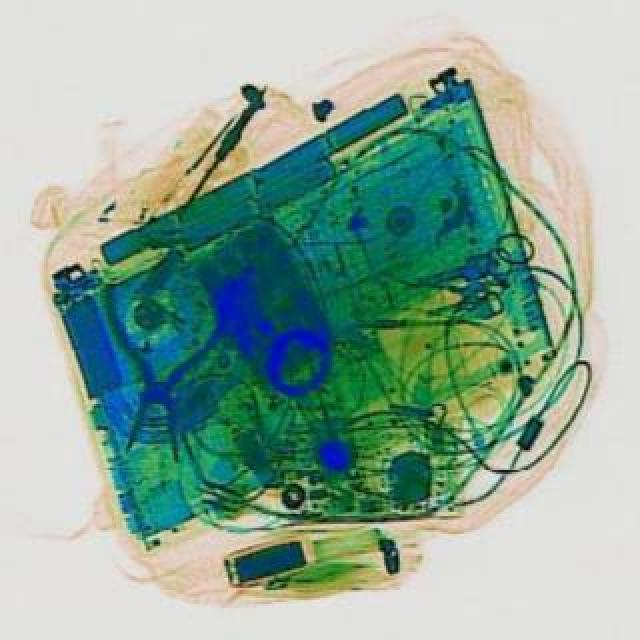wrench: (86, 276, 226, 464)
